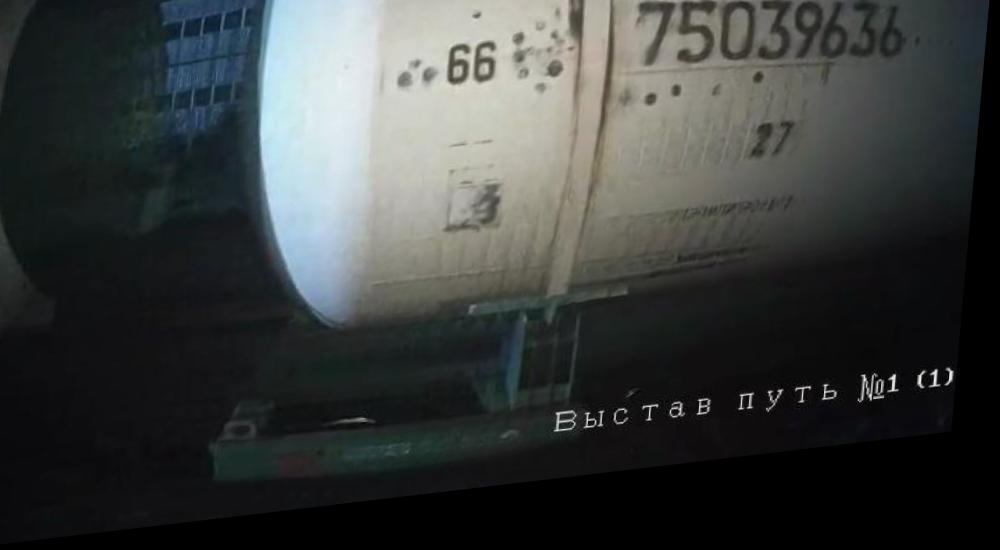Wagon-number: (631, 0, 917, 114)
